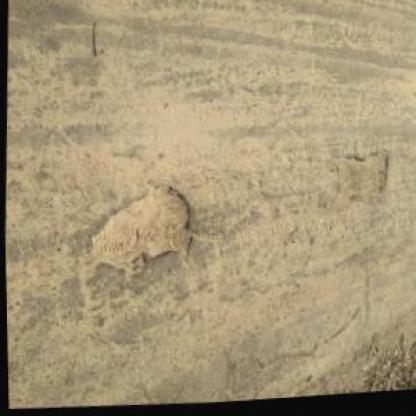pothole: (83, 180, 198, 282), (332, 153, 390, 212)
